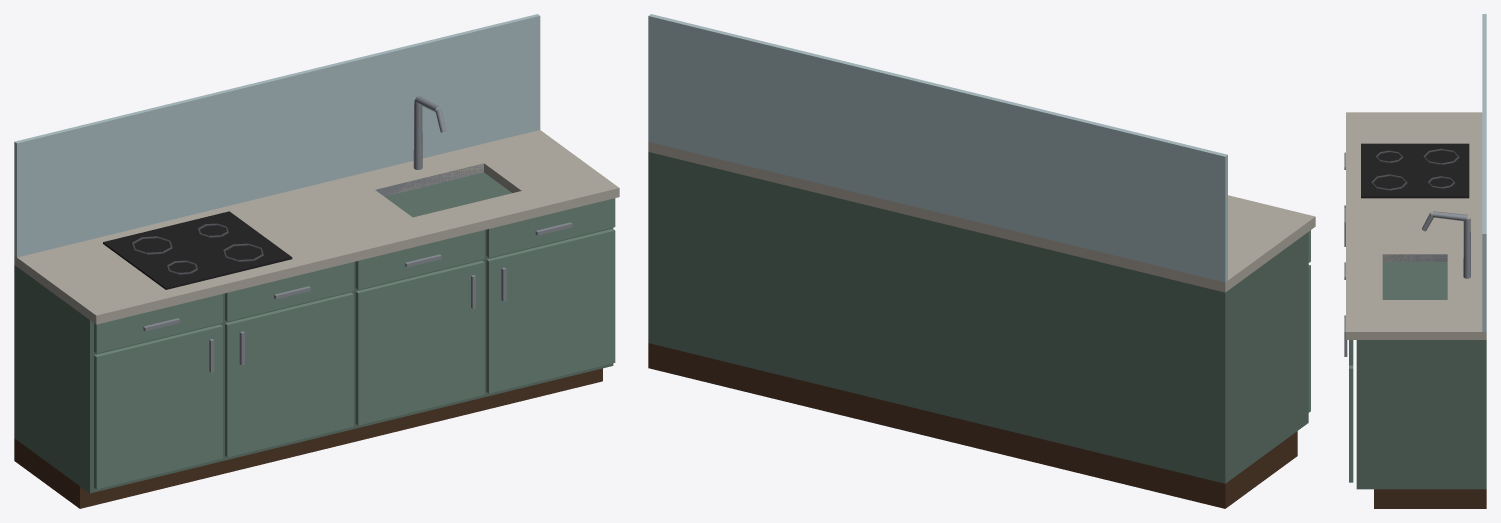
The model's file is kitchen_counter.glb.
The picture shows the model from 3 angles, left to right: view 1: azimuth 30°, elevation 25°; view 2: azimuth 150°, elevation 25°; view 3: azimuth 270°, elevation 25°; orthographic projection. The views are drawn at different scales.
Visible parts, largest first — view 1: Counter; view 2: Counter; view 3: Counter.
Part boxes in pixels (bbox=[...]): Counter: bbox=[14, 14, 619, 508]; Counter: bbox=[648, 14, 1315, 508]; Counter: bbox=[1344, 14, 1486, 508].
Size of the model in its own units: 2.4 by 1.4 by 0.6575.
Materials: 1 (1 with a texture image).
